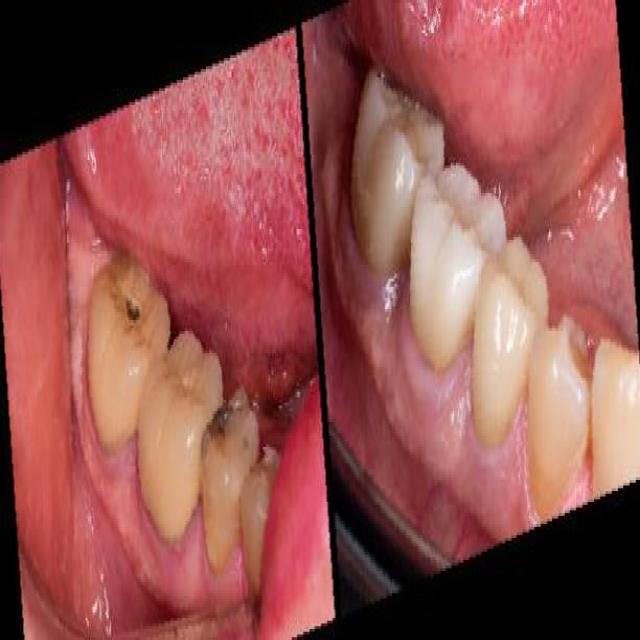caries: (113, 268, 155, 355)
